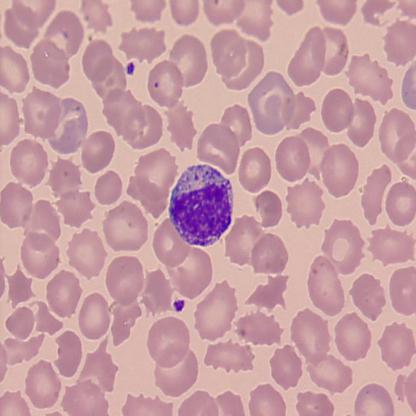Myelocyte: (168, 163, 235, 247)
